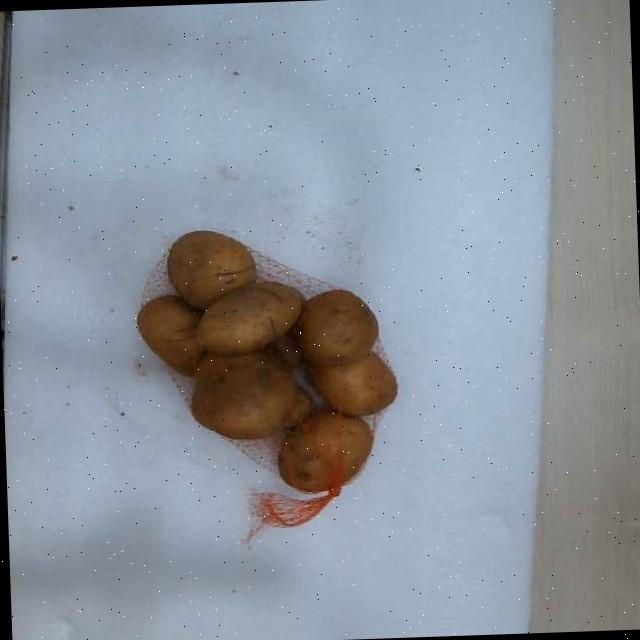potato: (192, 352, 293, 438), (280, 411, 372, 492), (195, 282, 297, 354), (166, 230, 255, 309), (296, 289, 377, 366), (308, 352, 396, 414), (136, 296, 199, 375), (305, 411, 366, 490)
